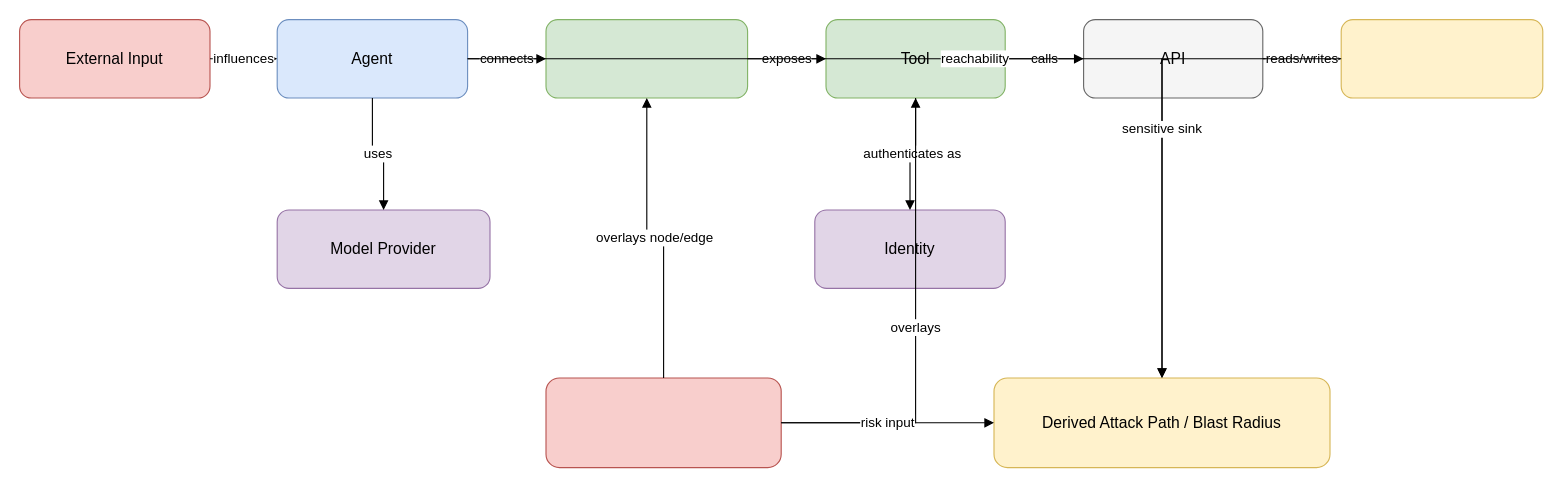
Image size: 1562x487. Some labels were removed from this diagram. Each missing label, with the box of its shape:
Data Store: (1340, 18, 1543, 98)
MCP Server: (545, 18, 748, 98)
Security Finding: (545, 377, 781, 468)
